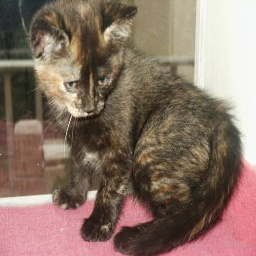cat: (26, 2, 238, 252)
